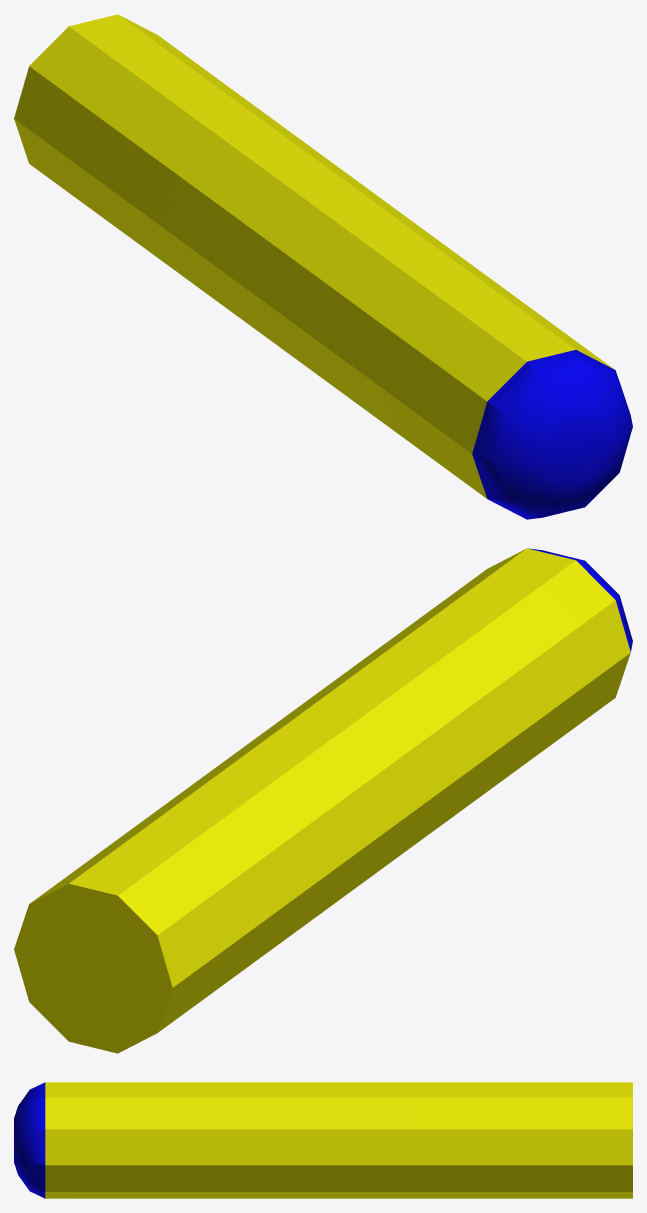
The model's file is Nerf_Bullet.fbx.
3 renders of one model, top to bottom at view 1: azimuth 30°, elevation 25°; view 2: azimuth 150°, elevation 25°; view 3: azimuth 270°, elevation 25°, orthographic. The views are drawn at different scales.
Visible parts, largest first — view 1: pCylinder1; view 2: pCylinder1; view 3: pCylinder1.
Boxes of the visible parts, bbox=[...] form: pCylinder1: bbox=[14, 14, 632, 519]; pCylinder1: bbox=[14, 548, 632, 1053]; pCylinder1: bbox=[14, 1082, 632, 1198].
Size of the model in its own units: 1 by 0.9511 by 5.27.
